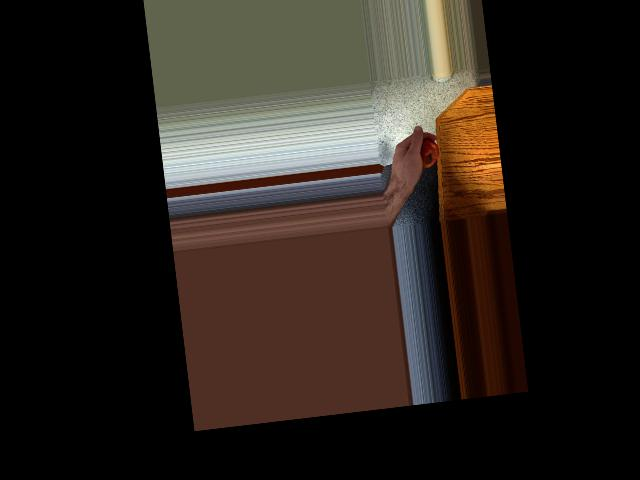apple: (411, 134, 442, 165)
